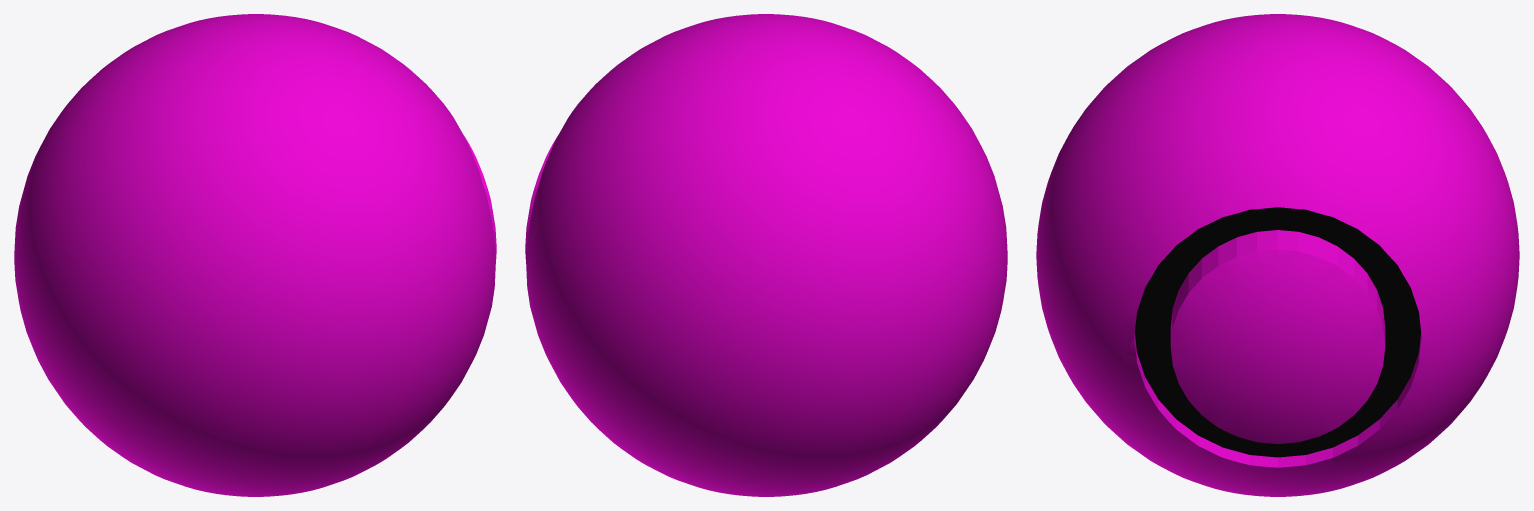
Rendered from nuc2.gltf.
3 renders of one model, left to right at view 1: azimuth 30°, elevation 25°; view 2: azimuth 150°, elevation 25°; view 3: azimuth 270°, elevation 25°, orthographic.
Parts seen in each view (by area): view 1: Sphere.001; view 2: Sphere.001; view 3: Sphere.001.
Part boxes in pixels (bbox=[...]): Sphere.001: bbox=[14, 14, 496, 496]; Sphere.001: bbox=[525, 14, 1007, 496]; Sphere.001: bbox=[1036, 14, 1519, 496].
Bounding box in the file's own units: 0.1279 × 0.1279 × 0.1279.
